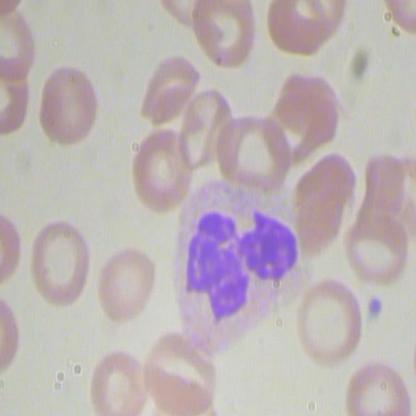Platelets: (367, 289, 387, 322)
RBC: (292, 270, 364, 371), (214, 112, 296, 194), (27, 210, 91, 313), (35, 49, 99, 152), (95, 230, 159, 333), (130, 123, 198, 219), (143, 327, 217, 415), (133, 51, 203, 127), (344, 206, 408, 287), (189, 1, 260, 73), (86, 341, 151, 415)
WBC: (160, 183, 310, 360)
